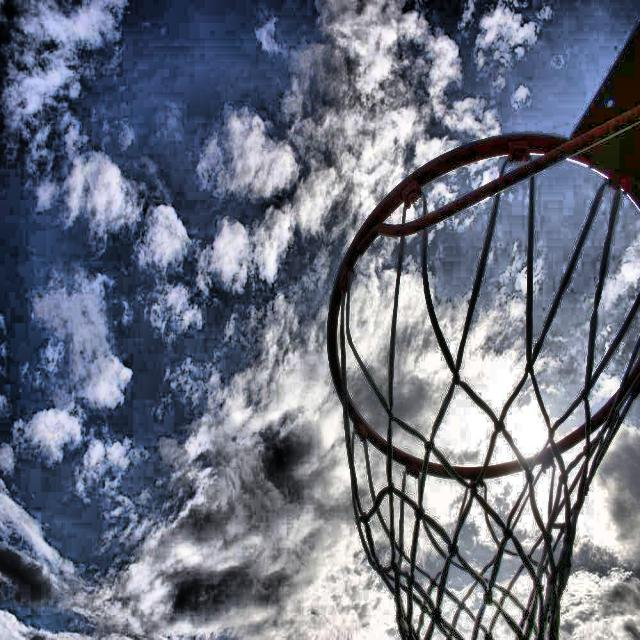rim: (327, 133, 640, 640)
